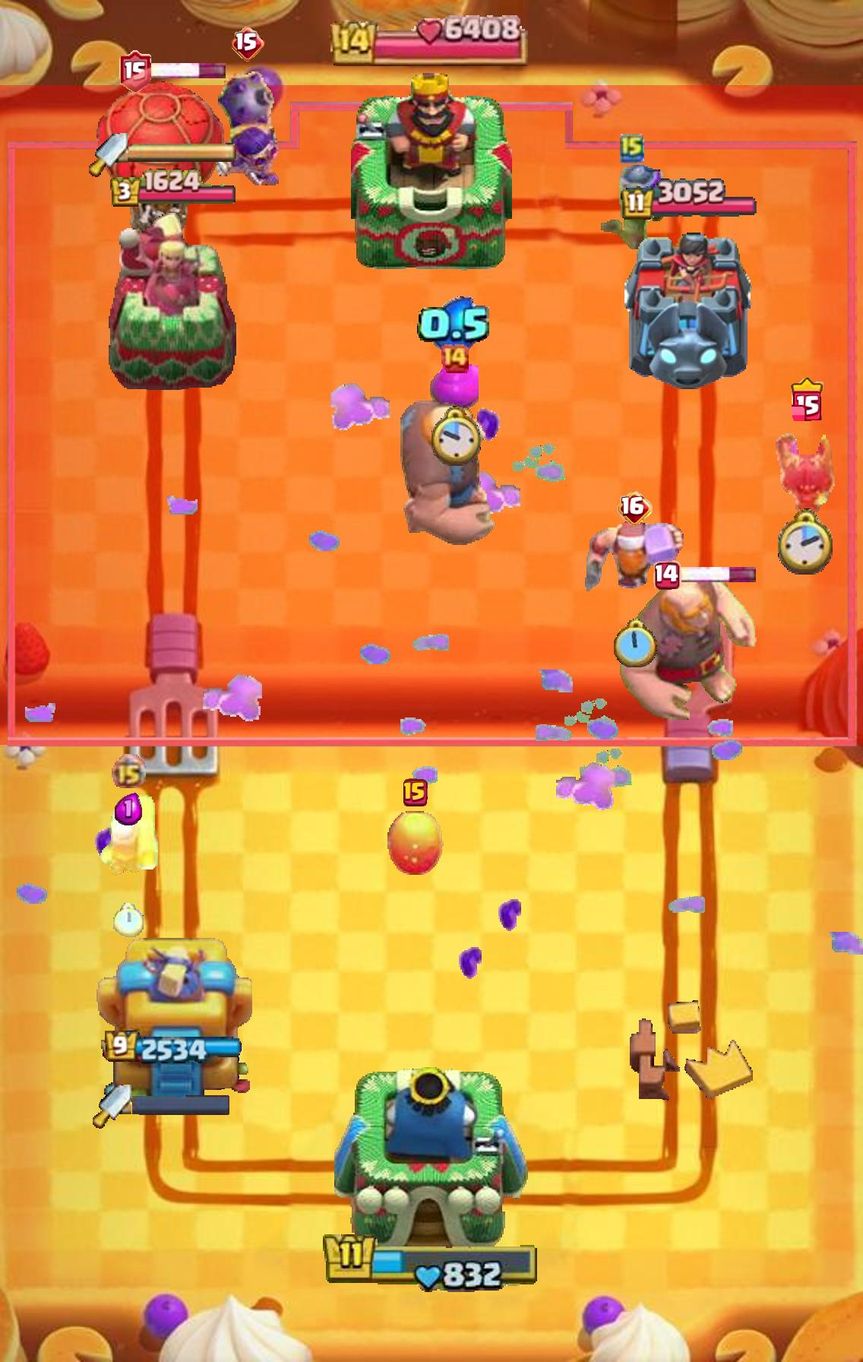bar: (417, 296, 492, 354), (115, 792, 142, 825)
bar-level: (594, 164, 670, 249)
